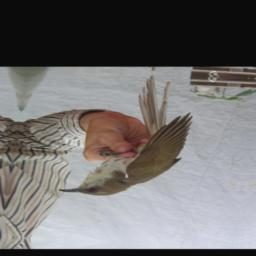Cuckoo: (57, 74, 198, 201)
